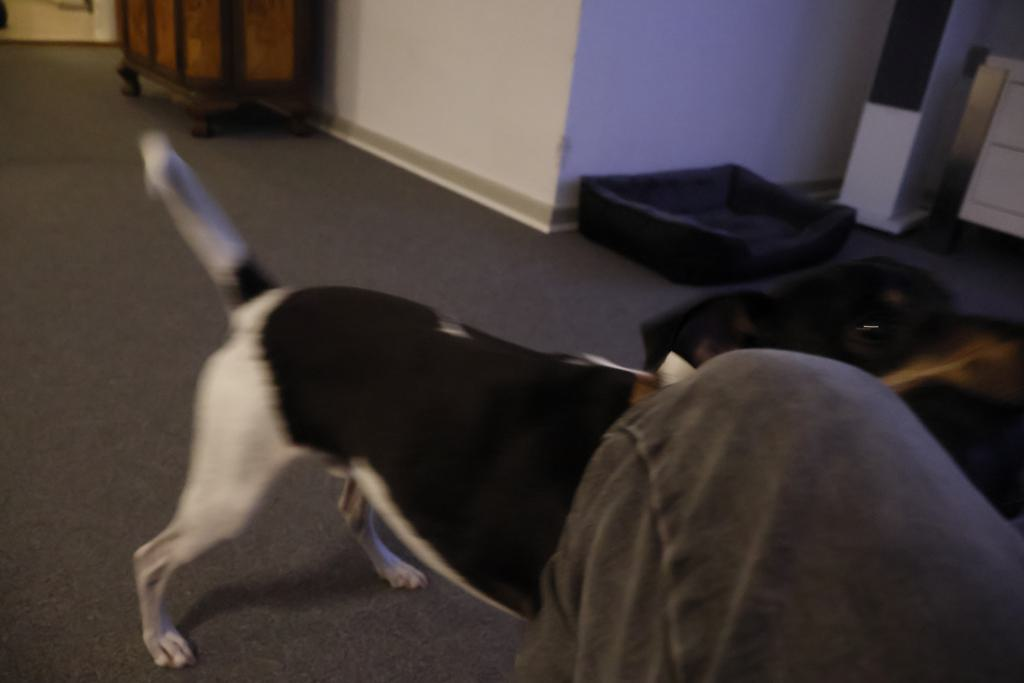Dog: (130, 123, 1024, 683)
Humanoid: (491, 345, 1024, 683)
